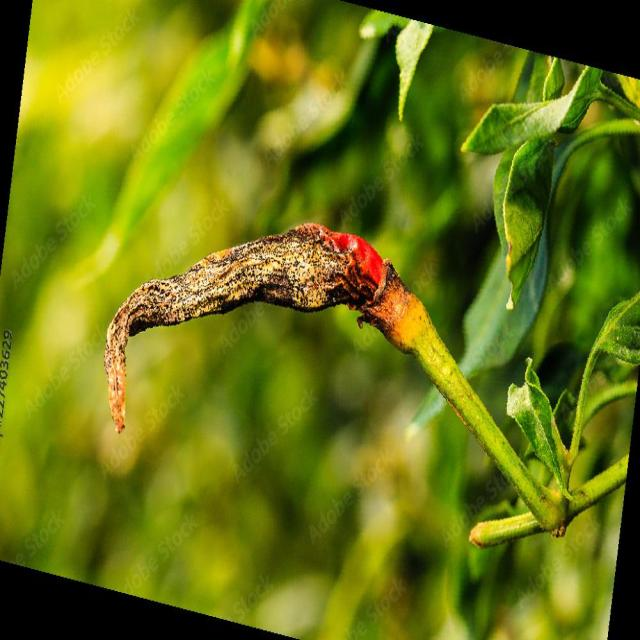Moko: (72, 158, 499, 489)
